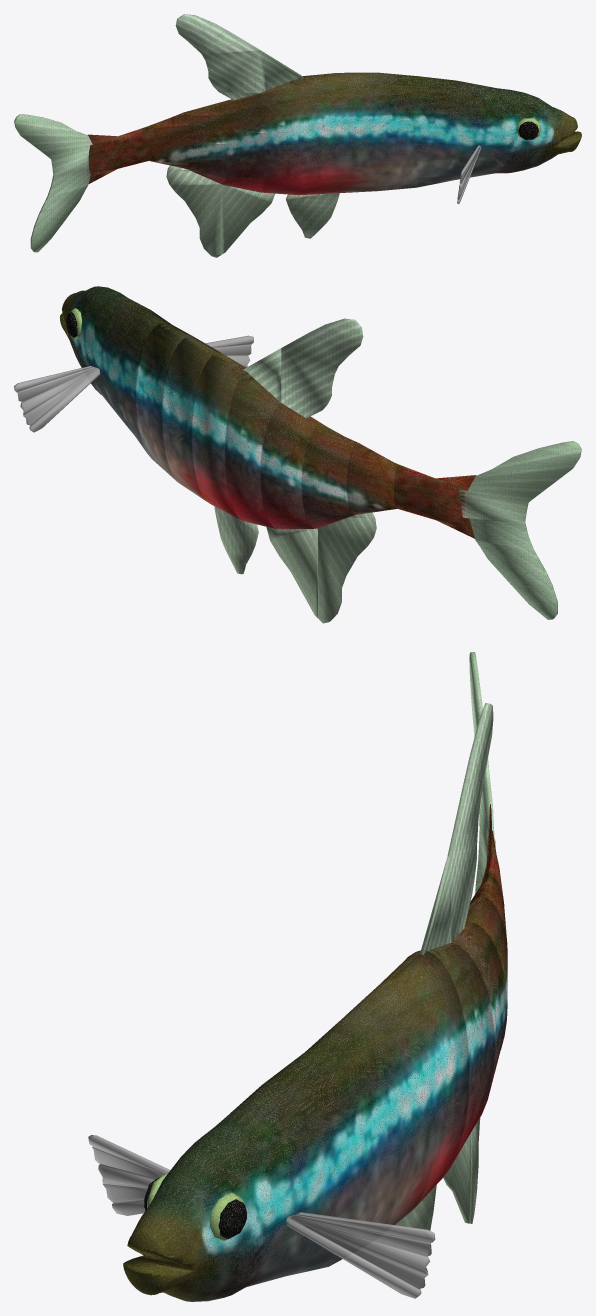
Rendered from premade_fish.dae.
3 renders of one model, top to bottom at view 1: azimuth 30°, elevation 25°; view 2: azimuth 150°, elevation 25°; view 3: azimuth 270°, elevation 25°, orthographic. The views are drawn at different scales.
Parts seen in each view (by area): view 1: neon.dxf (×6); view 2: neon.dxf (×7); view 3: neon.dxf (×8).
Boxes of the visible parts, box(x1,y1,x2,y2) form: neon.dxf (×6): box(14, 14, 581, 257); neon.dxf (×7): box(14, 286, 581, 623); neon.dxf (×8): box(88, 652, 507, 1301).
Bounding box in the file's own units: 1.48 × 0.5524 × 0.7172.
10 materials, 5 textured.
